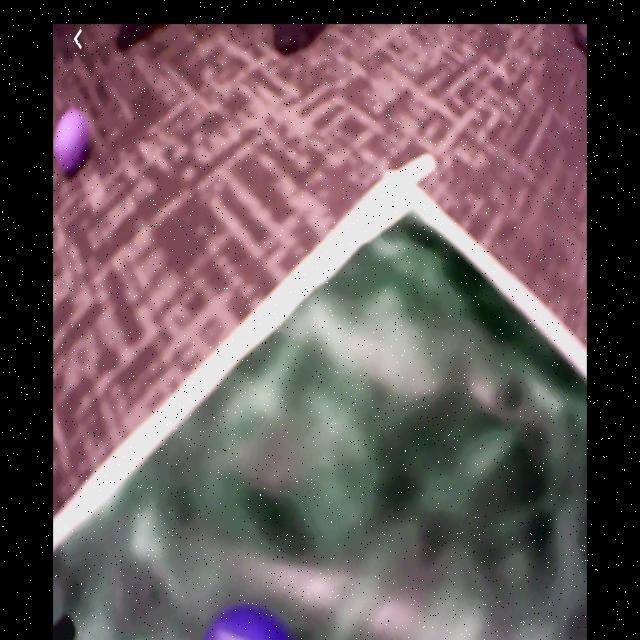ball: (207, 605, 293, 640), (55, 111, 91, 176)
